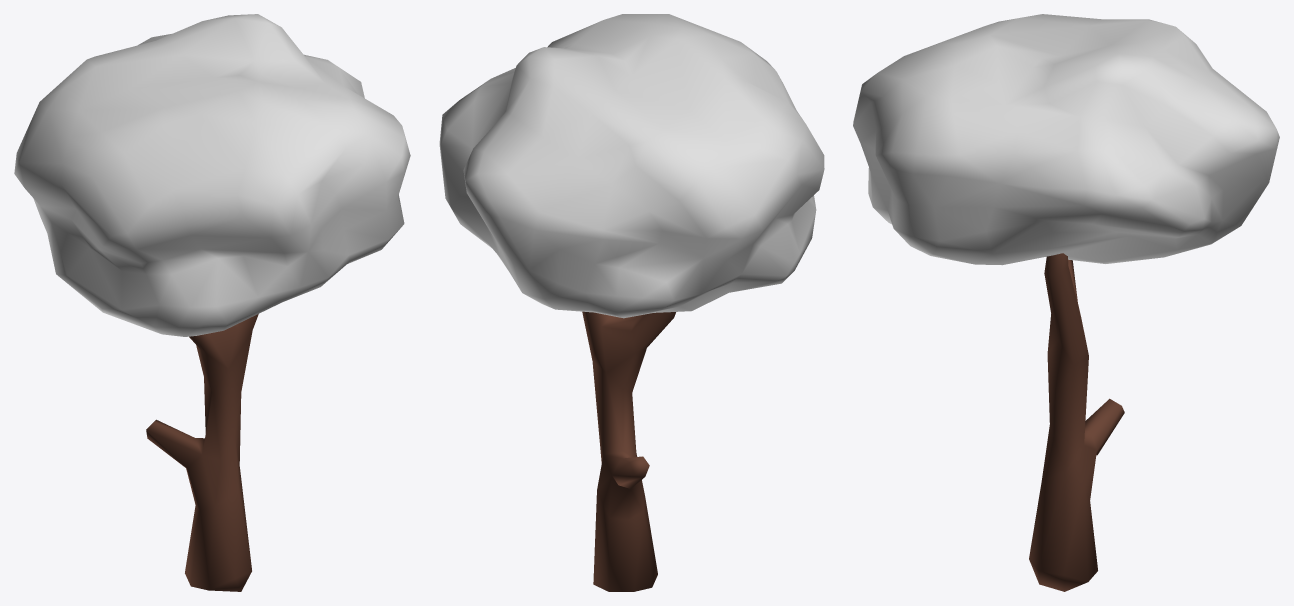
Rendered from Tree1.fbx.
The picture shows the model from 3 angles, left to right: view 1: azimuth 30°, elevation 25°; view 2: azimuth 150°, elevation 25°; view 3: azimuth 270°, elevation 25°; orthographic projection.
Parts seen in each view (by area): view 1: Leaves1, Tree1; view 2: Leaves1, Tree1; view 3: Leaves1, Tree1.
Boxes of the visible parts, bbox=[...] form: Leaves1: bbox=[14, 14, 410, 336]; Tree1: bbox=[146, 314, 258, 591]; Leaves1: bbox=[439, 14, 824, 318]; Tree1: bbox=[582, 311, 675, 591]; Leaves1: bbox=[853, 14, 1279, 265]; Tree1: bbox=[1029, 253, 1124, 591].
Size of the model in its own units: 314 by 505 by 353.
